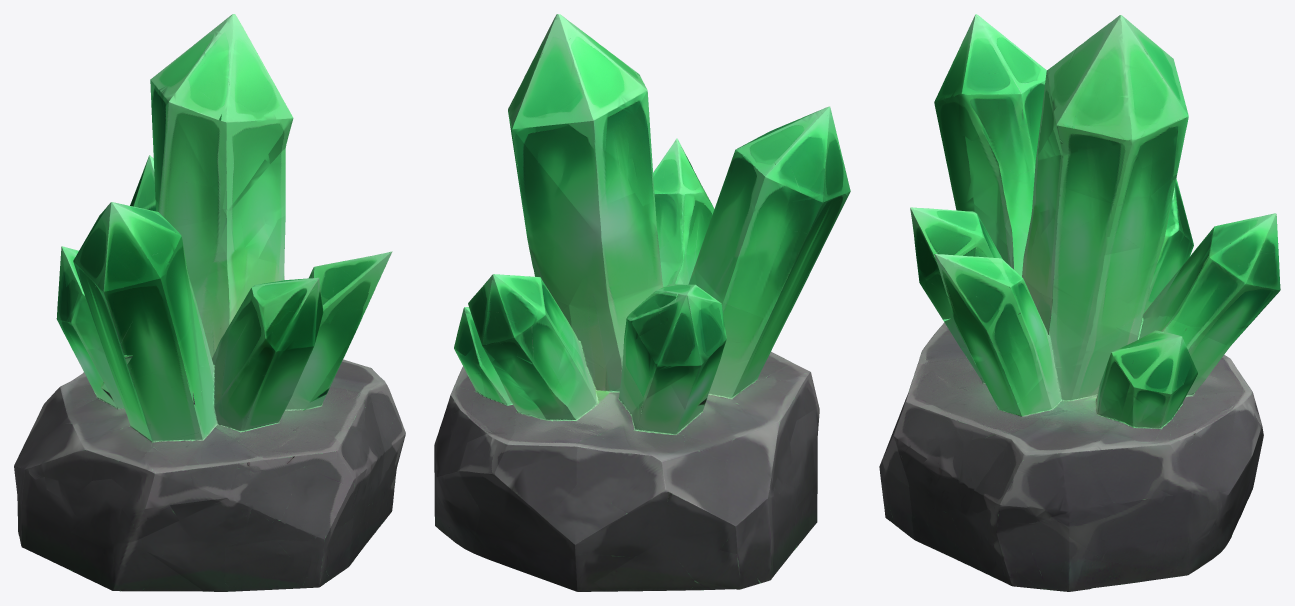
File: et_emerald.glb
3 renders of one model, left to right at view 1: azimuth 30°, elevation 25°; view 2: azimuth 150°, elevation 25°; view 3: azimuth 270°, elevation 25°, orthographic. The views are drawn at different scales.
Bounding box in the file's own units: 1.33 × 1.9 × 1.34.
Materials: 1 (1 with a texture image).
